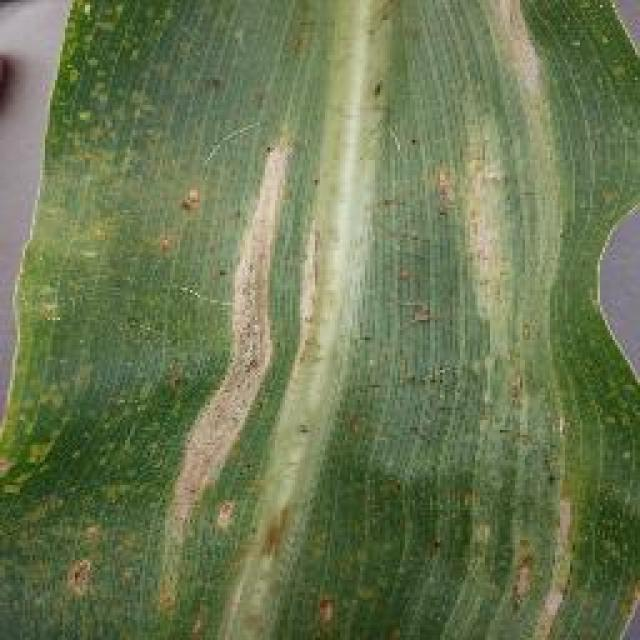Corn___Northern_Leaf_Blight: (2, 0, 638, 640)
